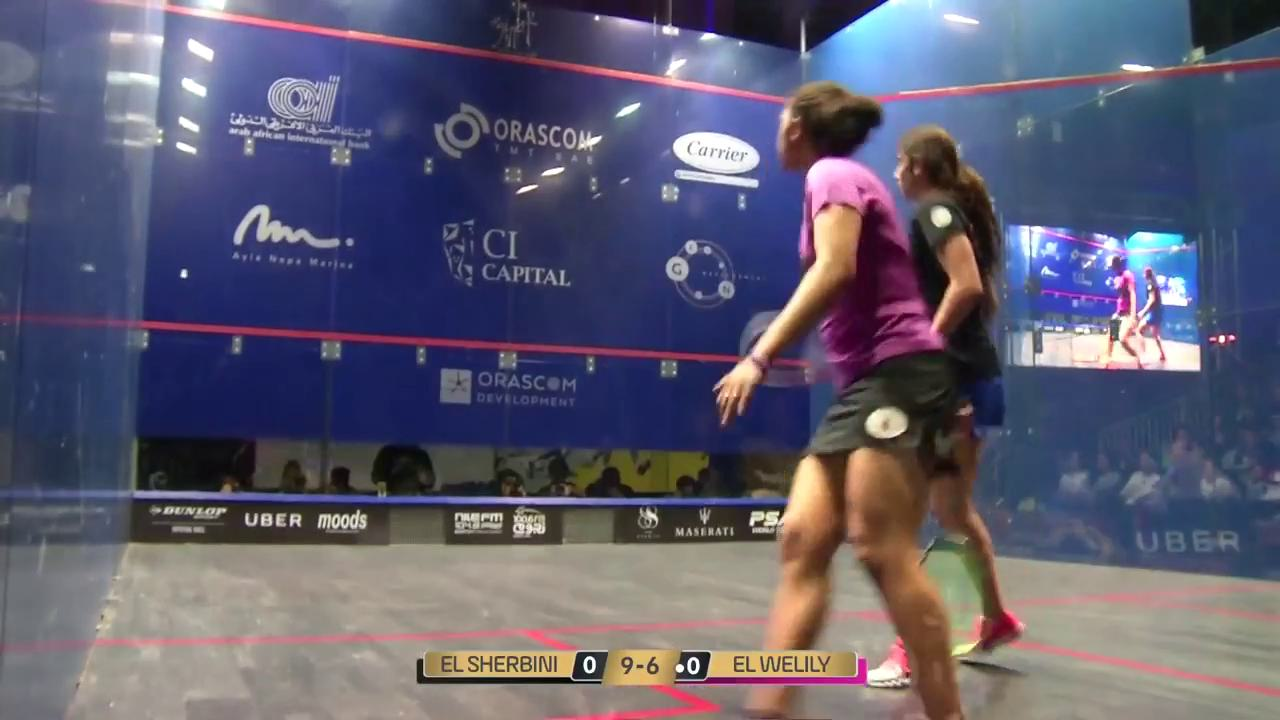normal: (719, 87, 1040, 719)
